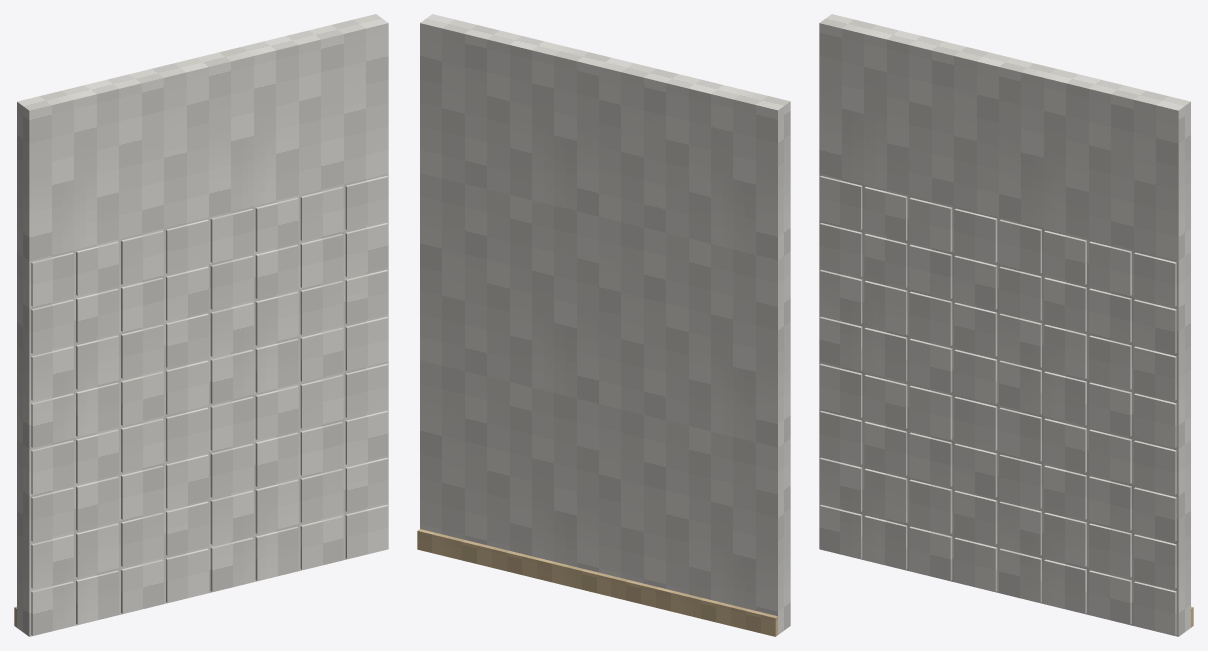
The model's file is pixel-modern-apartments-bathroom-wall-bay-615e012a__29800.glb.
The picture shows the model from 3 angles, left to right: view 1: azimuth 30°, elevation 25°; view 2: azimuth 150°, elevation 25°; view 3: azimuth 330°, elevation 25°; orthographic projection.
Visible parts, largest first — view 1: bathroom-wall-bay; view 2: bathroom-wall-bay; view 3: bathroom-wall-bay.
Part boxes in pixels (x1,y1,x2,y2): bathroom-wall-bay: (14, 14, 388, 636); bathroom-wall-bay: (417, 14, 790, 636); bathroom-wall-bay: (819, 14, 1193, 636).
Bounding box in the file's own units: 2 × 2.8 × 0.16.
Materials: 2 (2 with a texture image).
